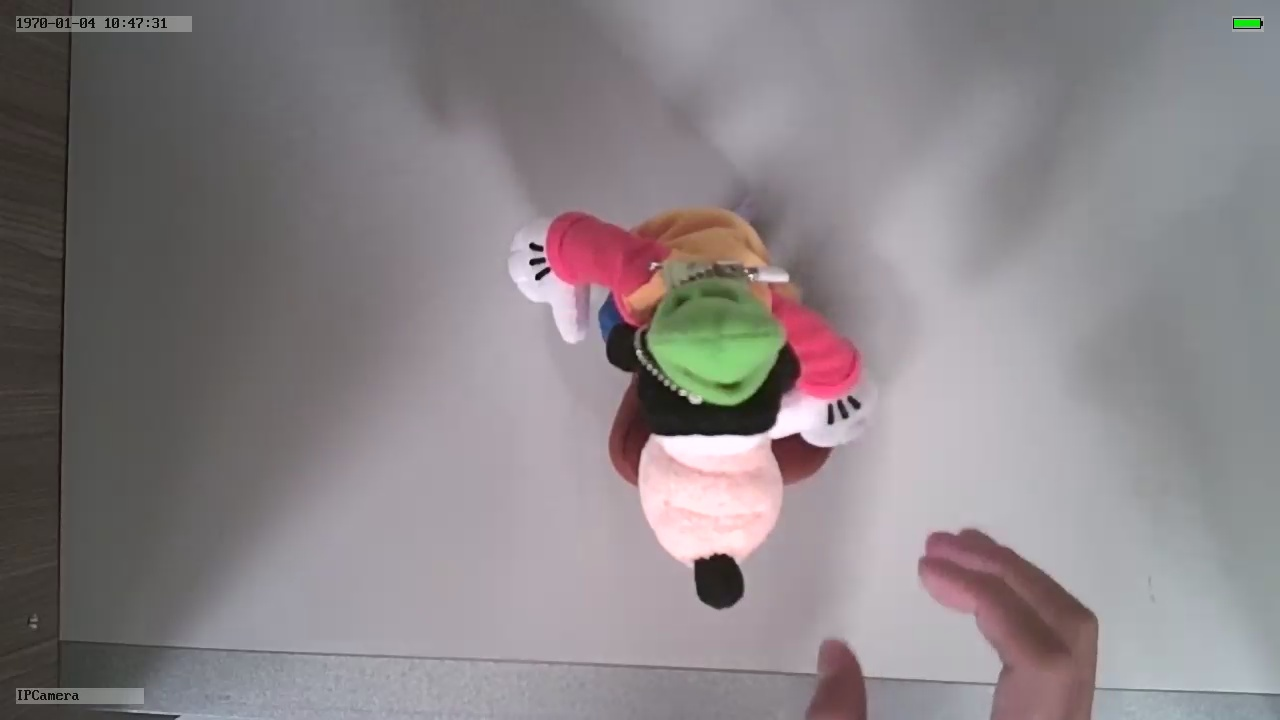goofy: (505, 202, 883, 612)
